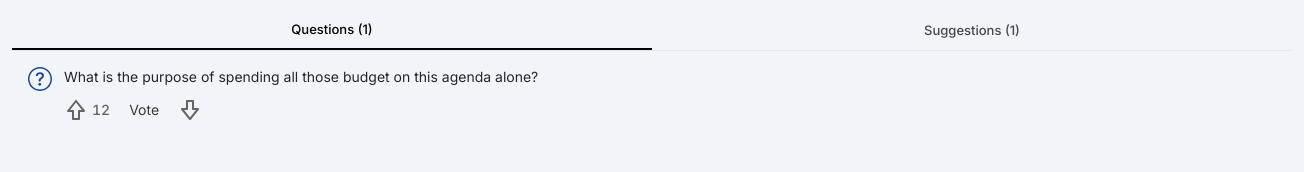
Test case: voting, and what it is for › is not offered on a suggestion
Expected: the text "purpose of spending" is shown, [64,68,538,84]
Click the tab "Suggestions (1)". click: coordinates (972, 31)
box: [652,12,1292,50]
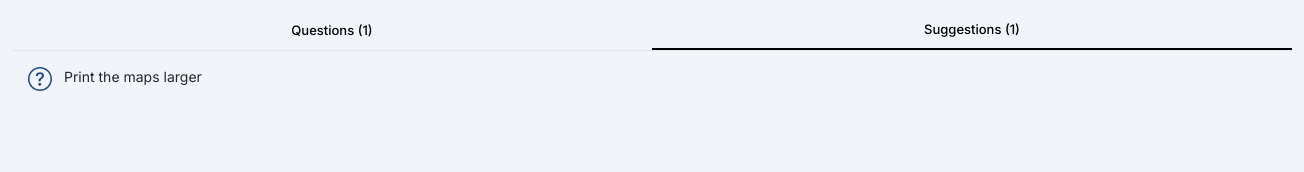
Result: the text "Print the maps larger" is shown at [64,68,202,84]
